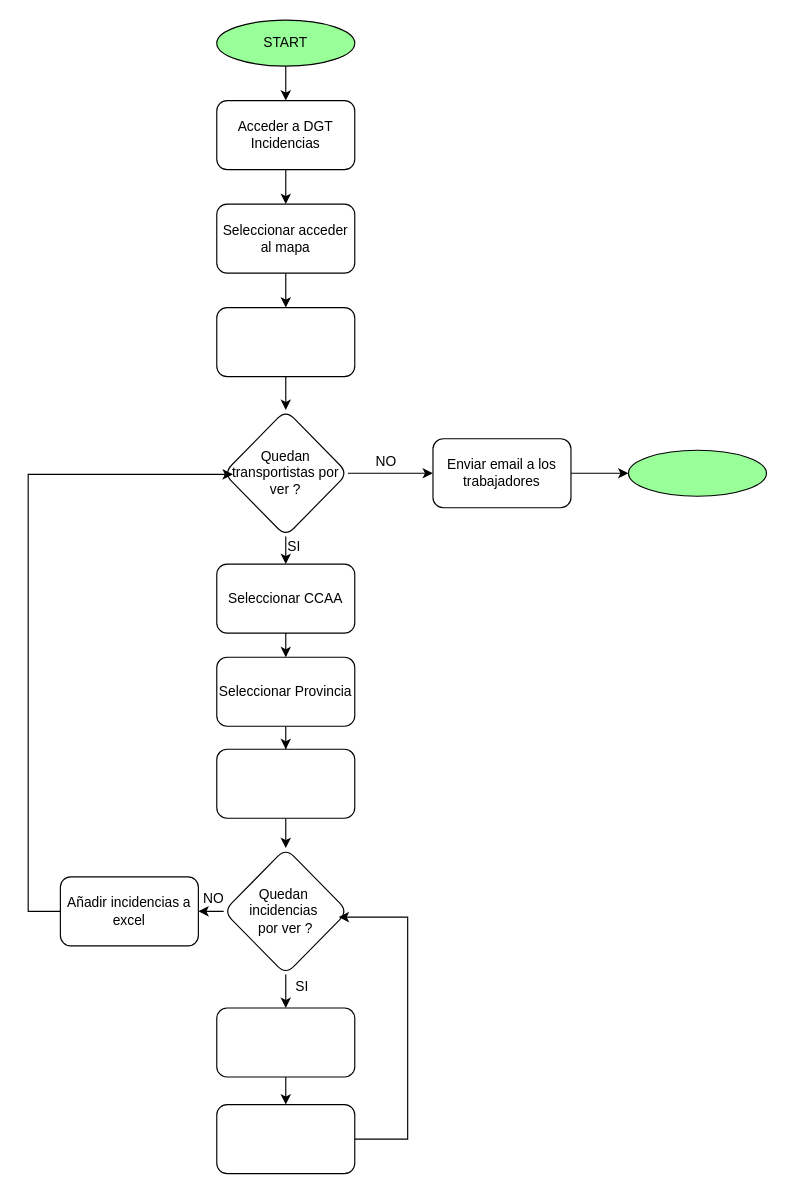
Image size: 787x1194. Some labels were removed from this diagram. Each missing label, with the centre of its shape:
Extraer incidencias: the point at 285,1042
FIN: the point at 696,472
Personalizar datos extraidos: the point at 285,1138
Seleccionar Consultar: the point at 285,783
Seleccionar ver todas las incidencias: the point at 285,341
